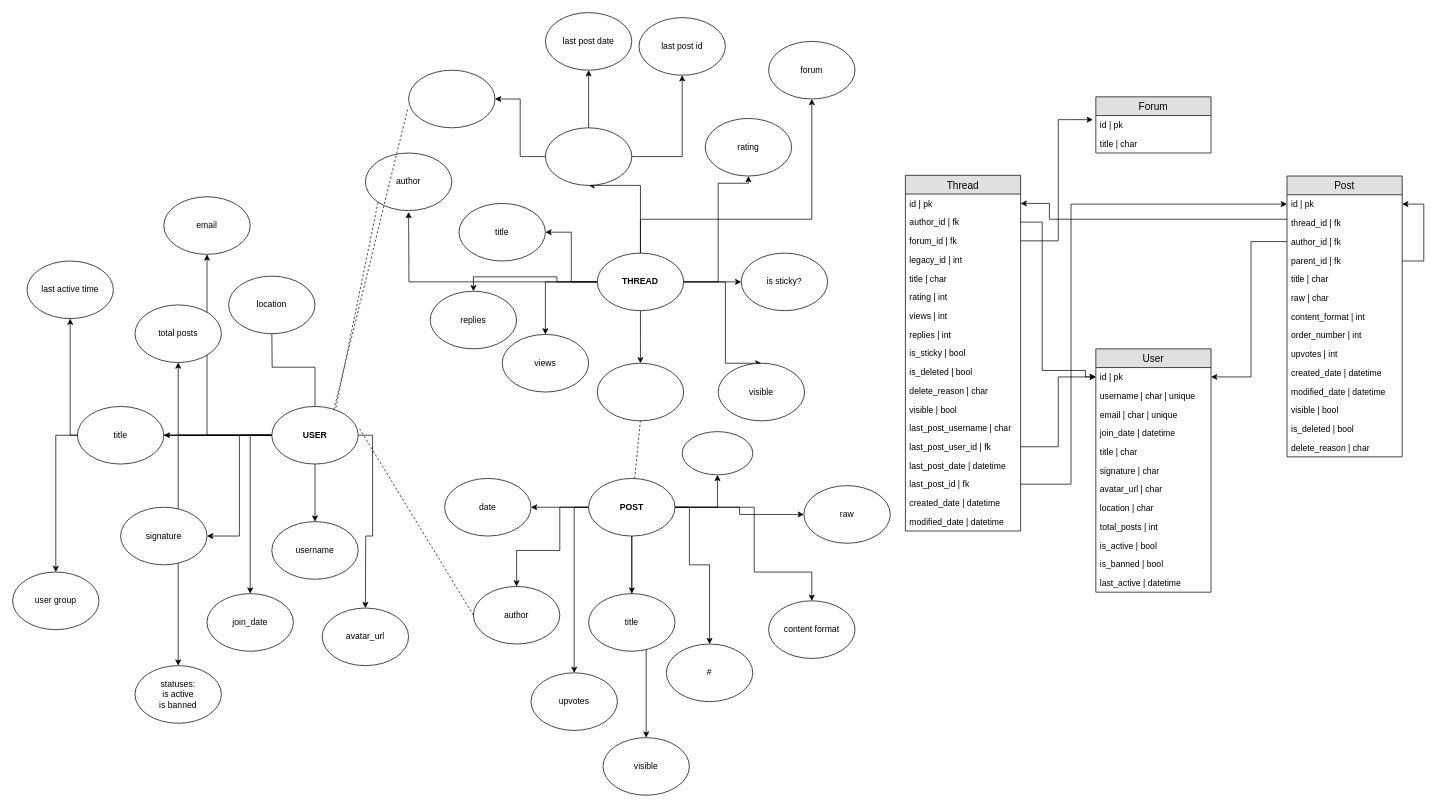
This 1442x808 diagram has some shape labels left out. The shapes that lost their labels are listed below. From the top down, each one's centre as x and y in pixels, then its label:
(x=451, y=98): last post user
(x=588, y=156): last post section
(x=640, y=392): list post
(x=717, y=453): parent post id
